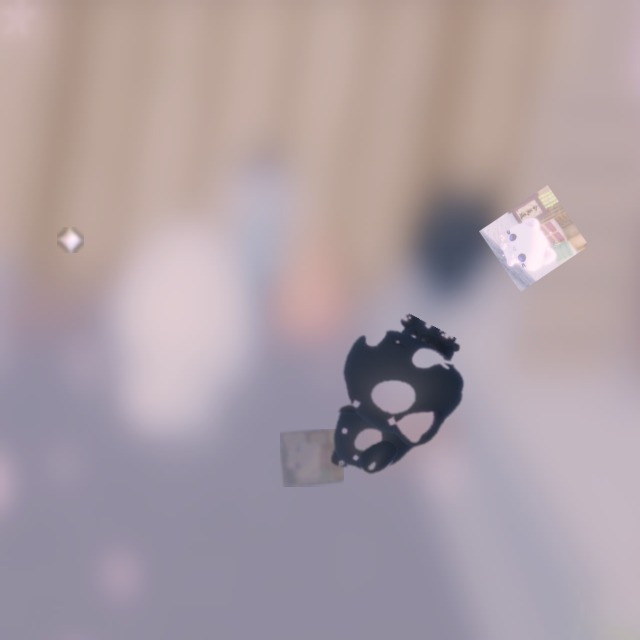urso_branco: (479, 185, 589, 292), (280, 429, 344, 487), (57, 227, 84, 253)
urso_preto: (283, 291, 491, 516)
